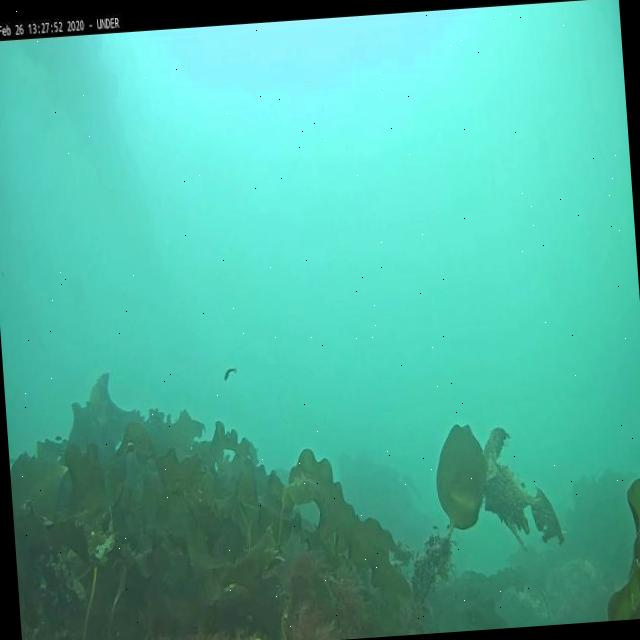fish: (218, 366, 238, 381)
